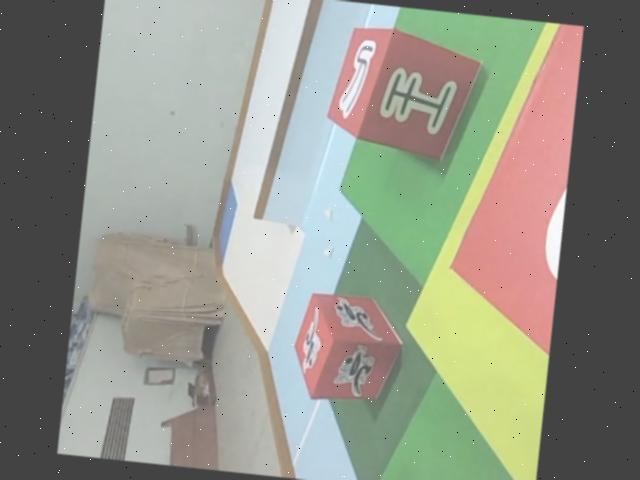R1: (282, 287, 408, 413)
R2 Fake: (319, 19, 488, 168)
